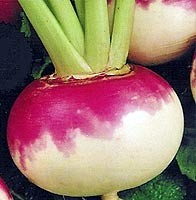turnip: (6, 0, 184, 198)
